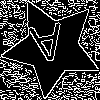A: (27, 22, 69, 74)
